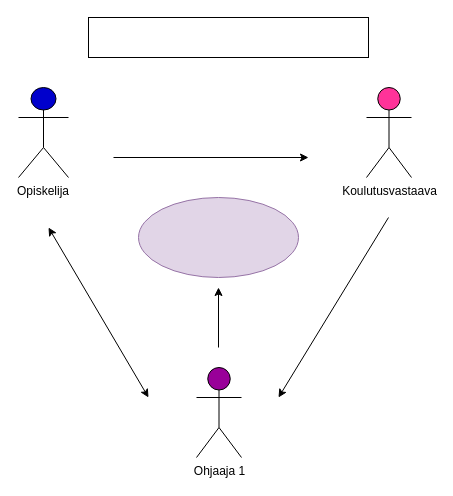
Image size: 453x496. Some labels were removed from this diagram. Here are the shapes that lost their labels. From the top down, the box of each, then its label:
(88, 16, 368, 58): USE CASE: OPINNÄYTETYÖN LATAAMINEN ARVIOINTITYÖKALUUN
(138, 196, 298, 278): Opinnäytetyön lataaminen arviointityökaluun
